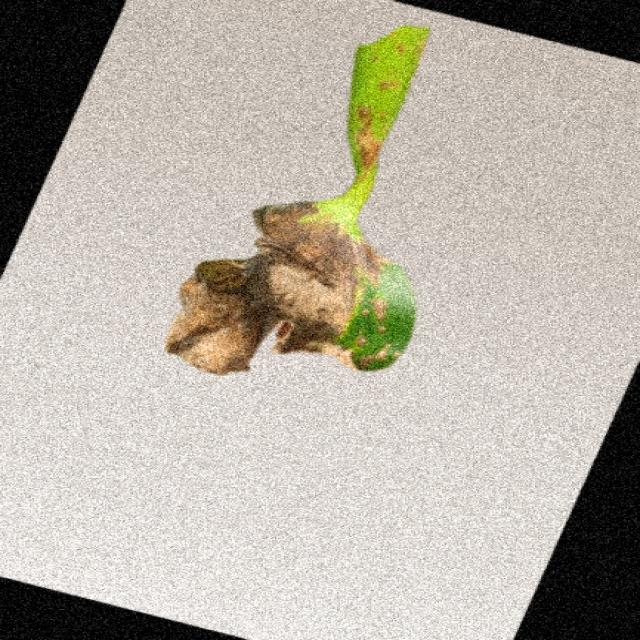daun berpenyakit bercak: (165, 26, 428, 374)
